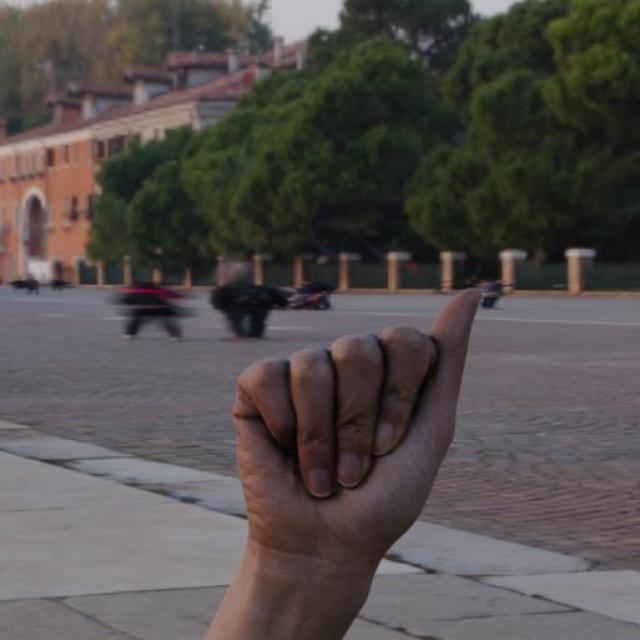A: (227, 282, 485, 554)
